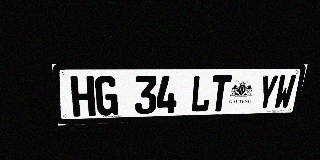3: (135, 76, 157, 114)
4: (156, 75, 178, 114)
G: (95, 76, 118, 116)
H: (70, 76, 96, 117)
L: (190, 75, 212, 112)
T: (209, 75, 232, 112)
W: (273, 75, 297, 109)
Y: (256, 75, 279, 110)
